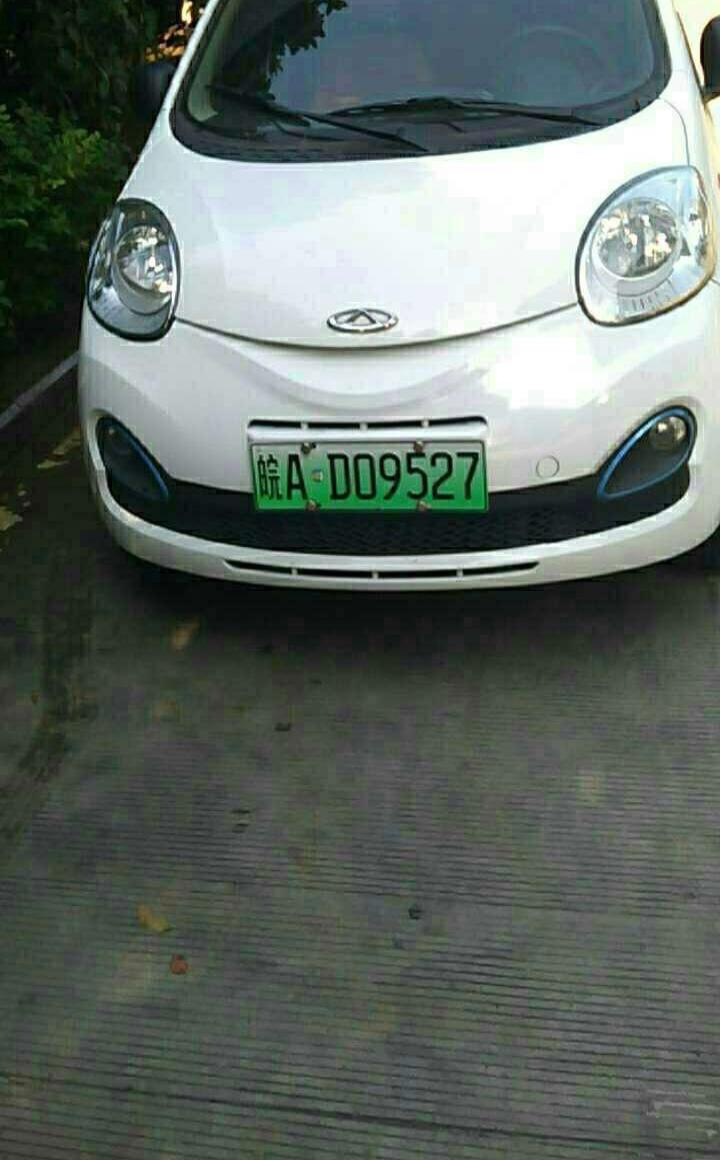car_id: (251, 439, 490, 512)
